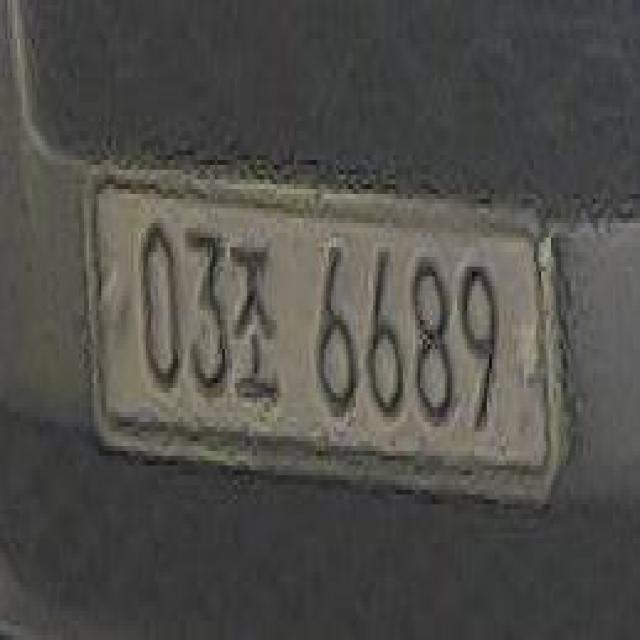illegal_plate: (91, 163, 564, 530)
